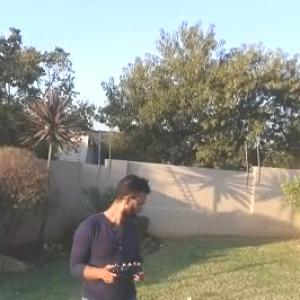follow: (66, 168, 154, 299)
